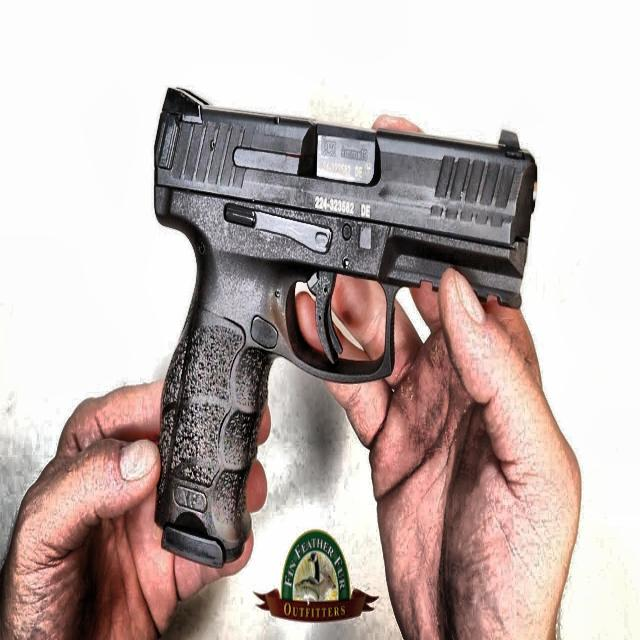HKVP9: (151, 83, 539, 569)
